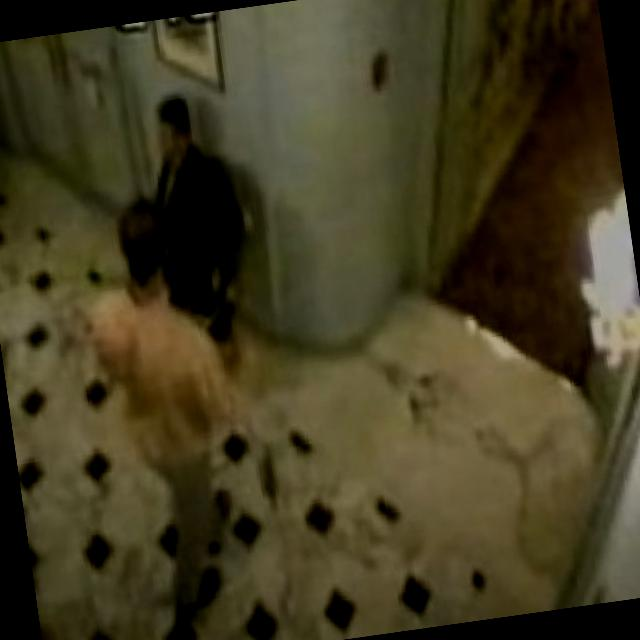Person: (76, 202, 264, 640), (120, 90, 243, 304)
